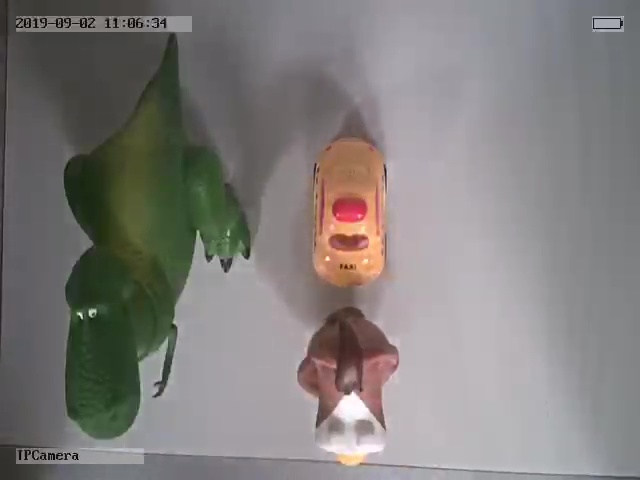car: (309, 134, 390, 287)
horse: (295, 306, 401, 468)
rex: (63, 60, 250, 439)
